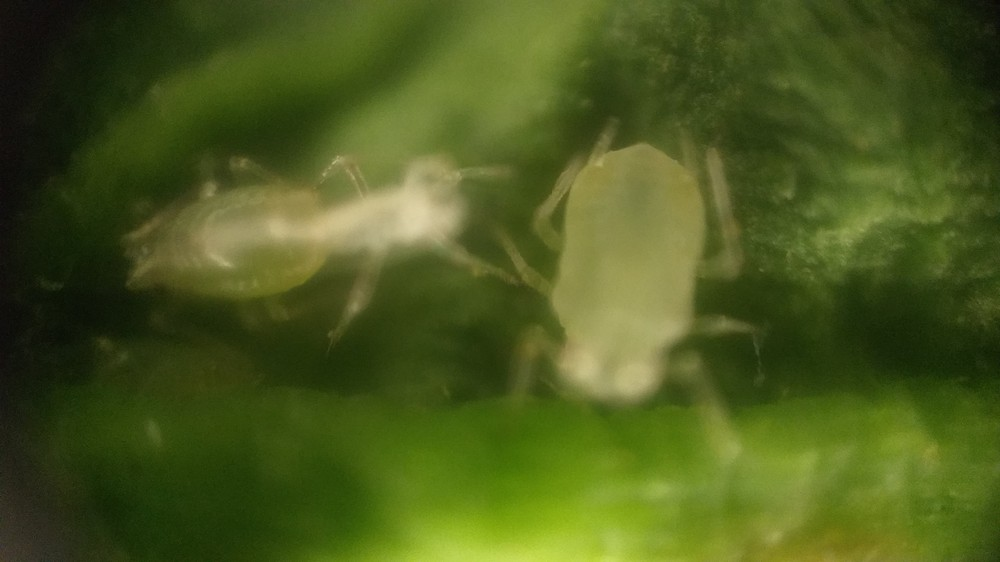Pulgon: (499, 101, 797, 468), (93, 146, 351, 350)
